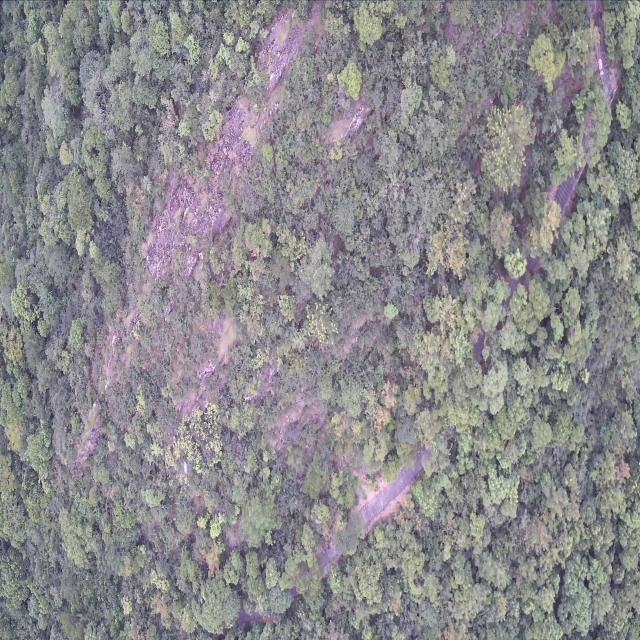UAV: (180, 460, 190, 477)
